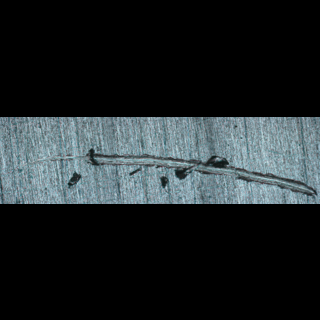d: (8, 146, 318, 198)
